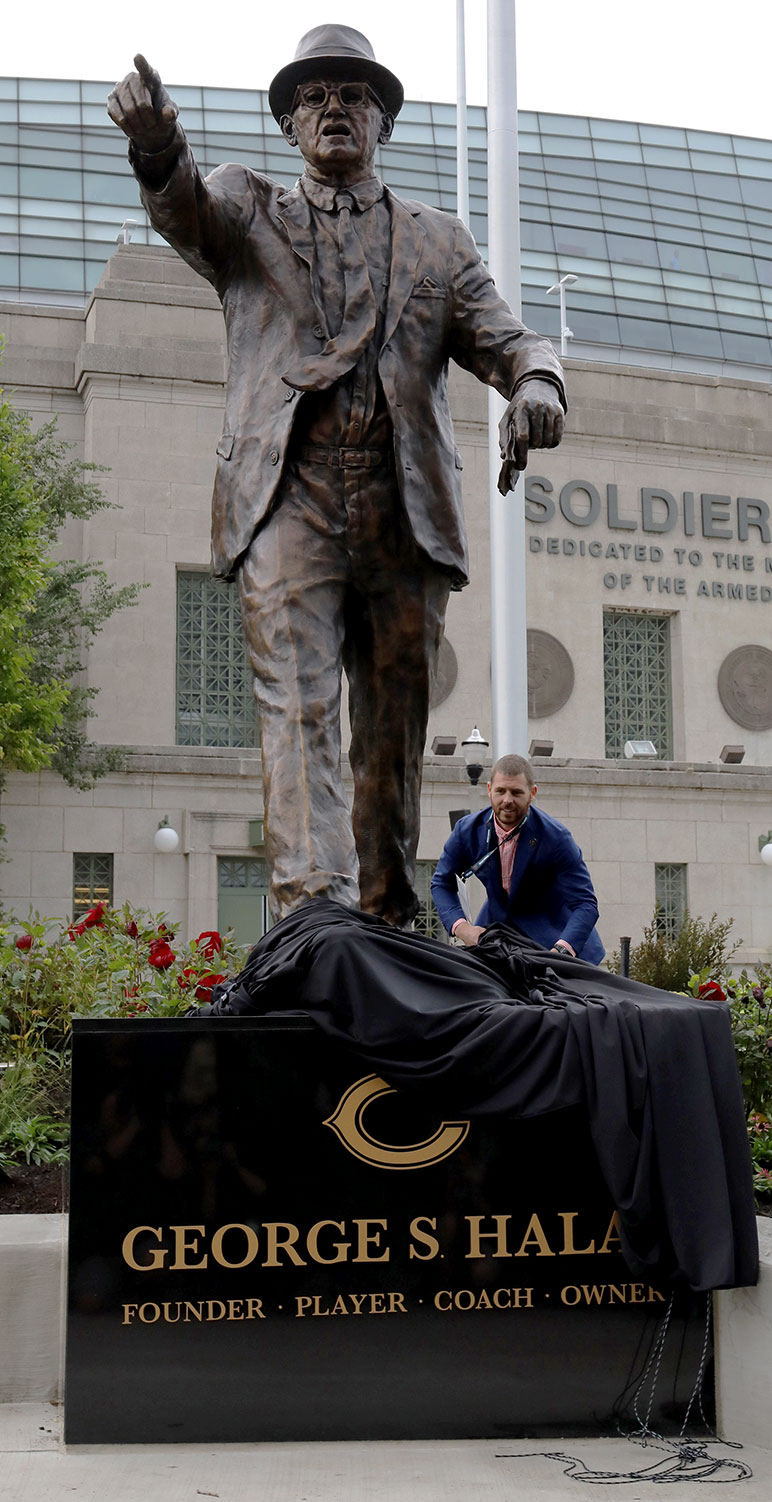person: (430, 750, 617, 973)
person-like: (94, 19, 573, 933)
